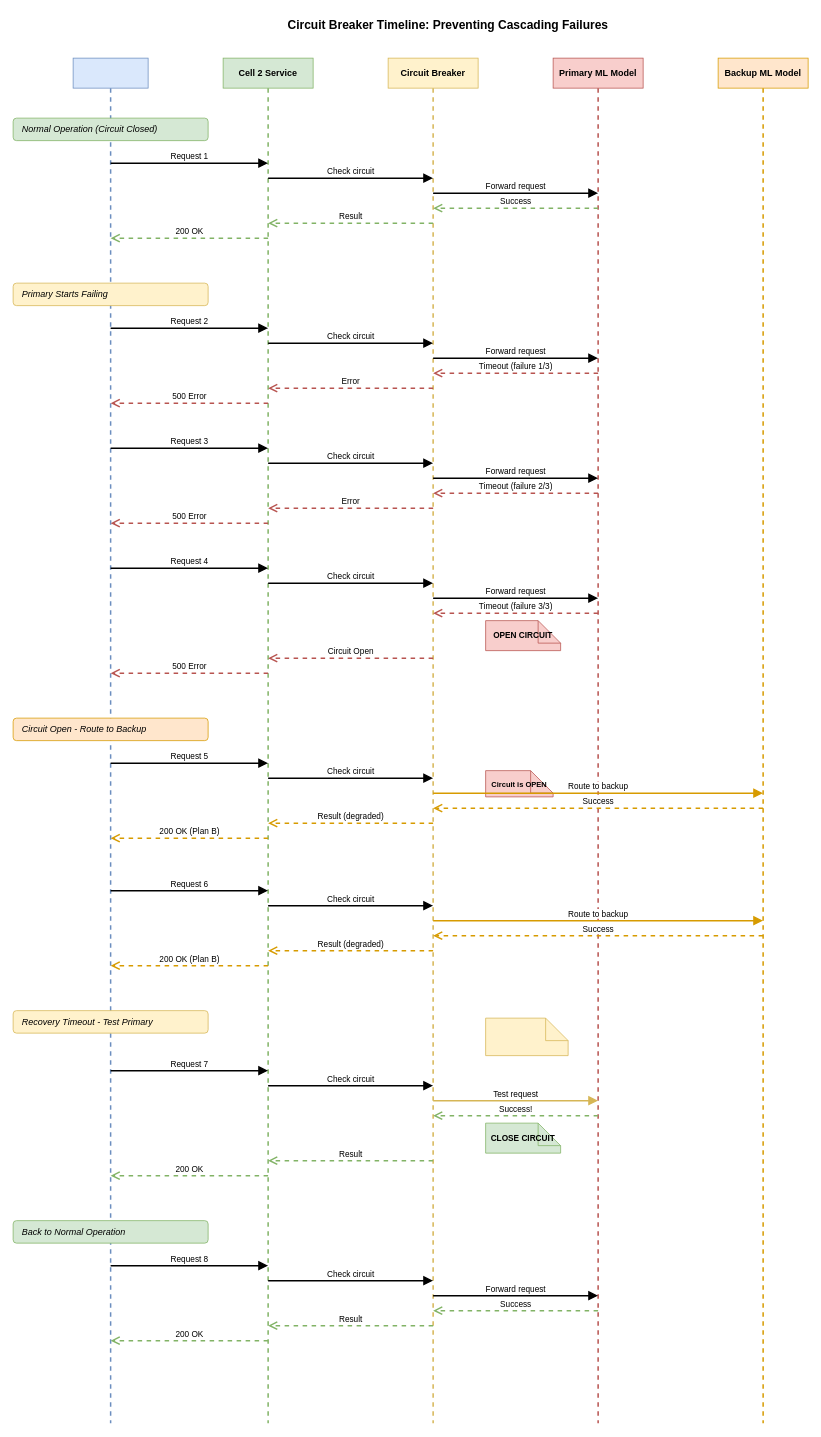
Some shapes in this 821 by 1437 pixel diagram are drawn without their labels. The shapes that lost their labels are listed below. From the top down, each one's box as (x1, y1, x2, y2) in pixels, then its label:
(72, 57, 148, 88): Client
(485, 1017, 568, 1056): 30s timeout elapsed Enter HALF-OPEN
